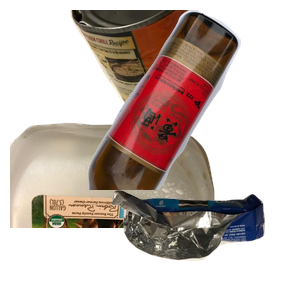glass: (85, 10, 300, 190)
metal: (68, 10, 265, 131)
plastic: (10, 120, 220, 300)
trash: (109, 187, 300, 300)
